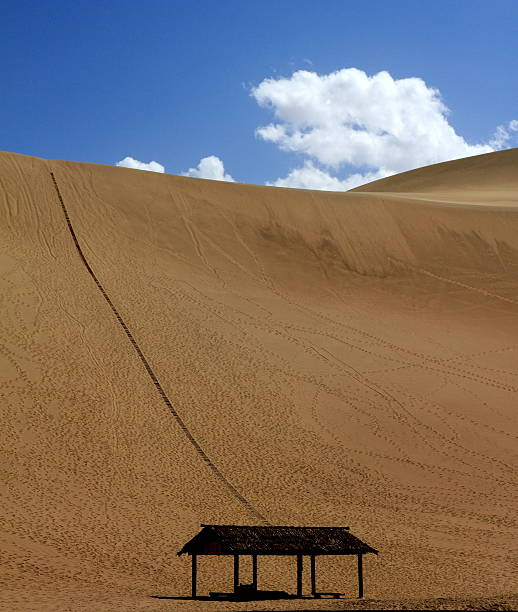vehicle_track: (50, 171, 269, 524)
